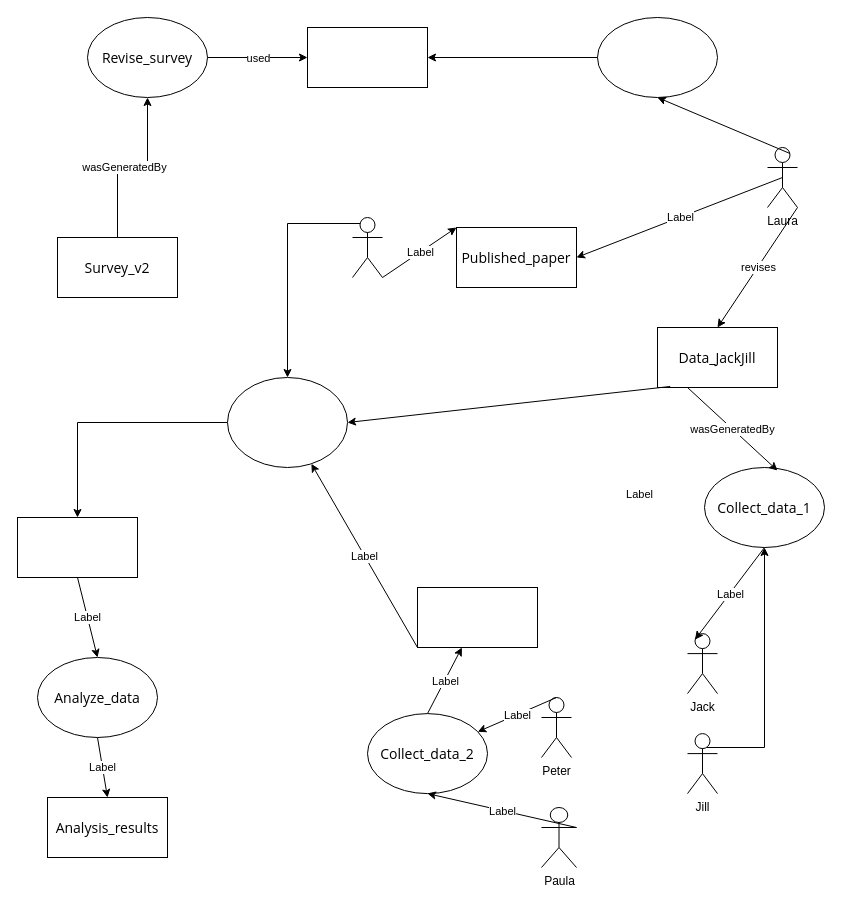
Image size: 842x906. Some labels were removed from this diagram. Here are the shapes that lost their labels. From the top down, the box of each, then its label:
(306, 26, 428, 88): Survey_v1
(596, 16, 718, 98): Design_survey
(352, 216, 382, 278): Zack
(226, 376, 348, 468): Compile_data
(16, 516, 138, 578): Compiled_dataset
(416, 586, 538, 648): Data_PeterPaula
